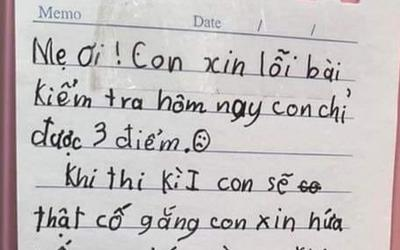text: (33, 76, 354, 131), (30, 35, 342, 86), (32, 201, 345, 243), (63, 160, 323, 198), (30, 114, 213, 160), (37, 5, 82, 22), (192, 13, 223, 30)
